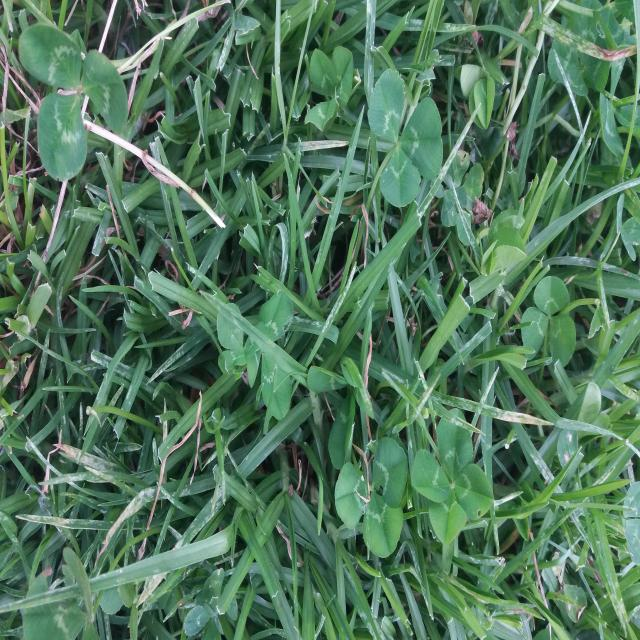Four Leaf Clover: (411, 408, 494, 546)
